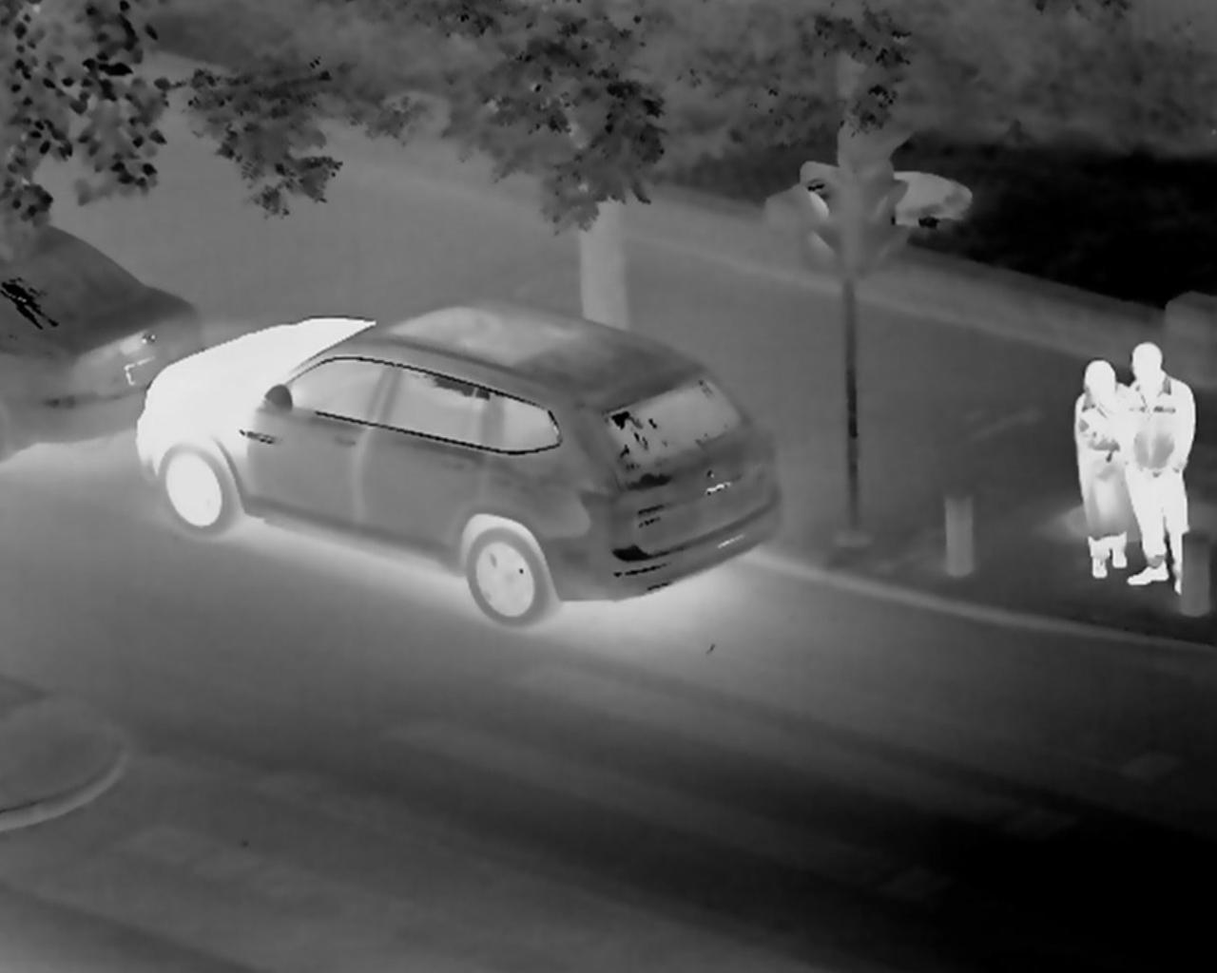person: (1133, 353, 1217, 608), (1054, 360, 1127, 588)
